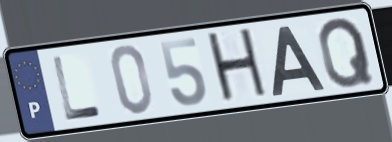0: (108, 43, 155, 117)
5: (157, 35, 209, 108)
A: (270, 23, 329, 98)
H: (203, 25, 273, 108)
L: (50, 54, 106, 123)
Q: (316, 15, 377, 91)
